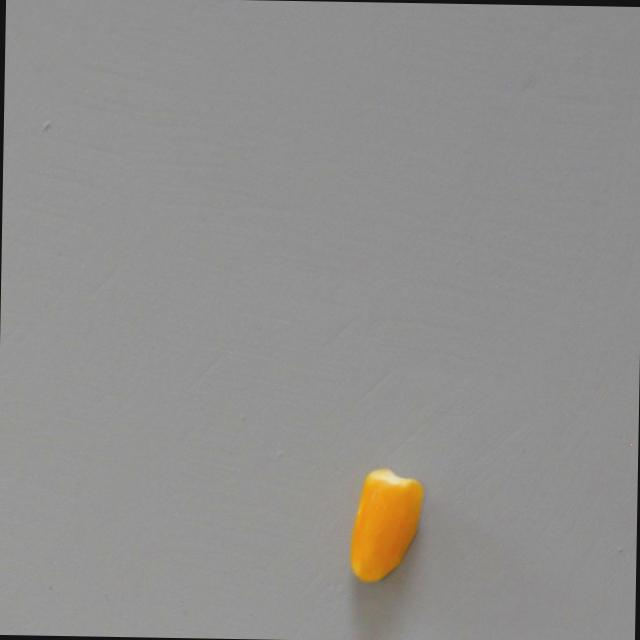estandar: (347, 466, 424, 583)
